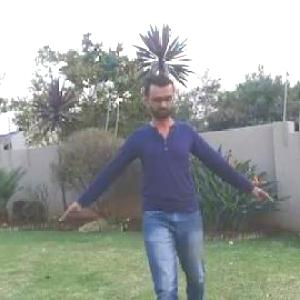land: (98, 58, 249, 299)
